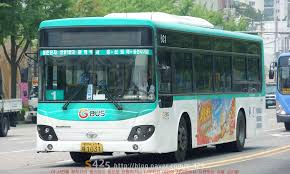bnum: (46, 90, 64, 100)
